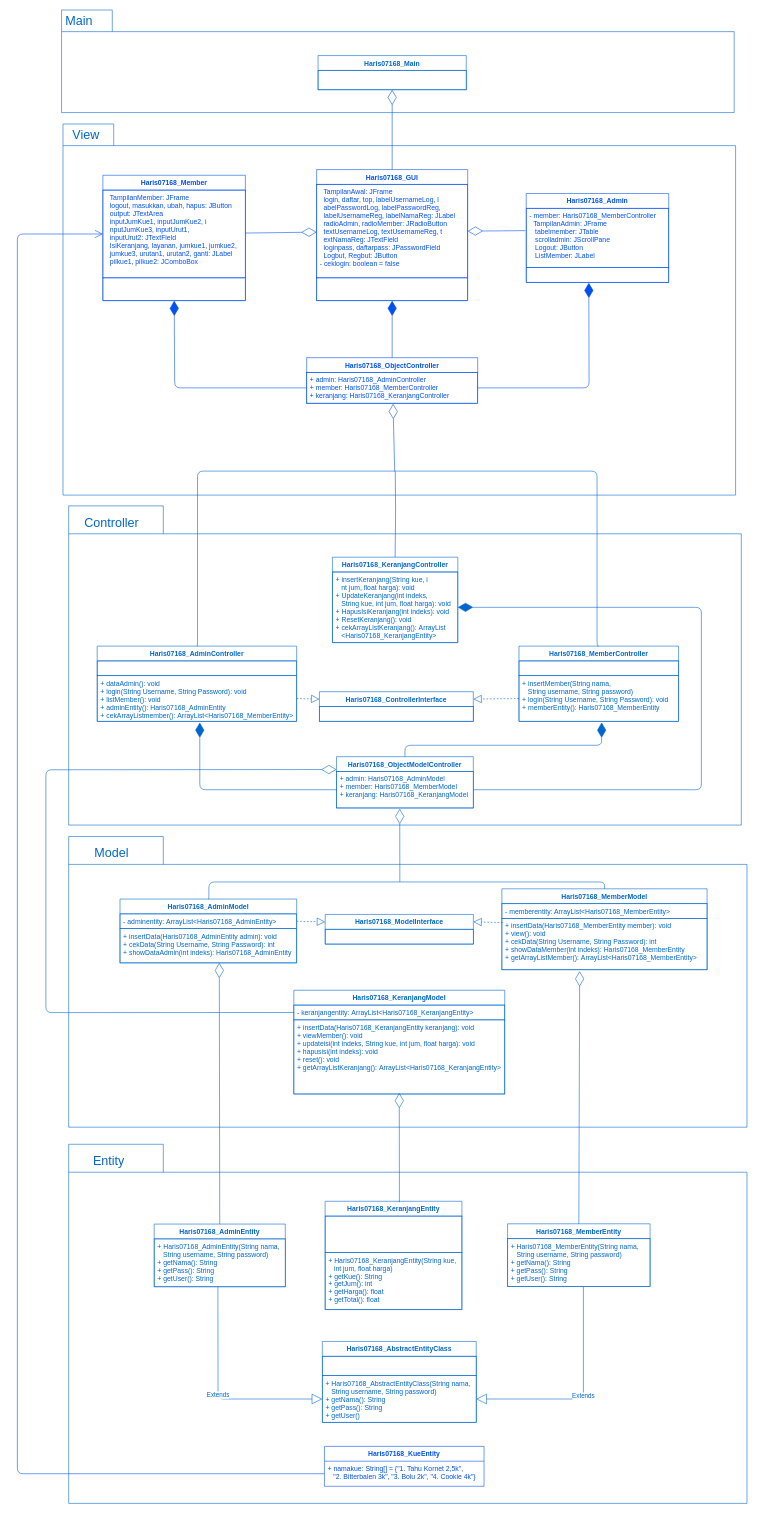
This 757x1513 diagram has some shape labels left out. Each missing label, with the centre of its shape:
"+ cekData(String Username, String Password): int" belongs at pixel 399 936.
"+ Haris07168_Admin()" belongs at pixel 597 274.
"+ Haris07168_GUI() kosong(): void" belongs at pixel 392 289.
"+ Haris07168_Member() datakeranjang(): String" belongs at pixel 173 289.
"+ login(String Username, String Password): void" belongs at pixel 396 713.
"+ main(String[] args): void" belongs at pixel 391 80.
"- indeks: int" belongs at pixel 197 668.
"- indeks: int = 0" belongs at pixel 598 668.
"- Kue: String - Jum: int - Harga, Total: float" belongs at pixel 393 1234.
"- Nama, Username, Password: String" belongs at pixel 399 1366.
